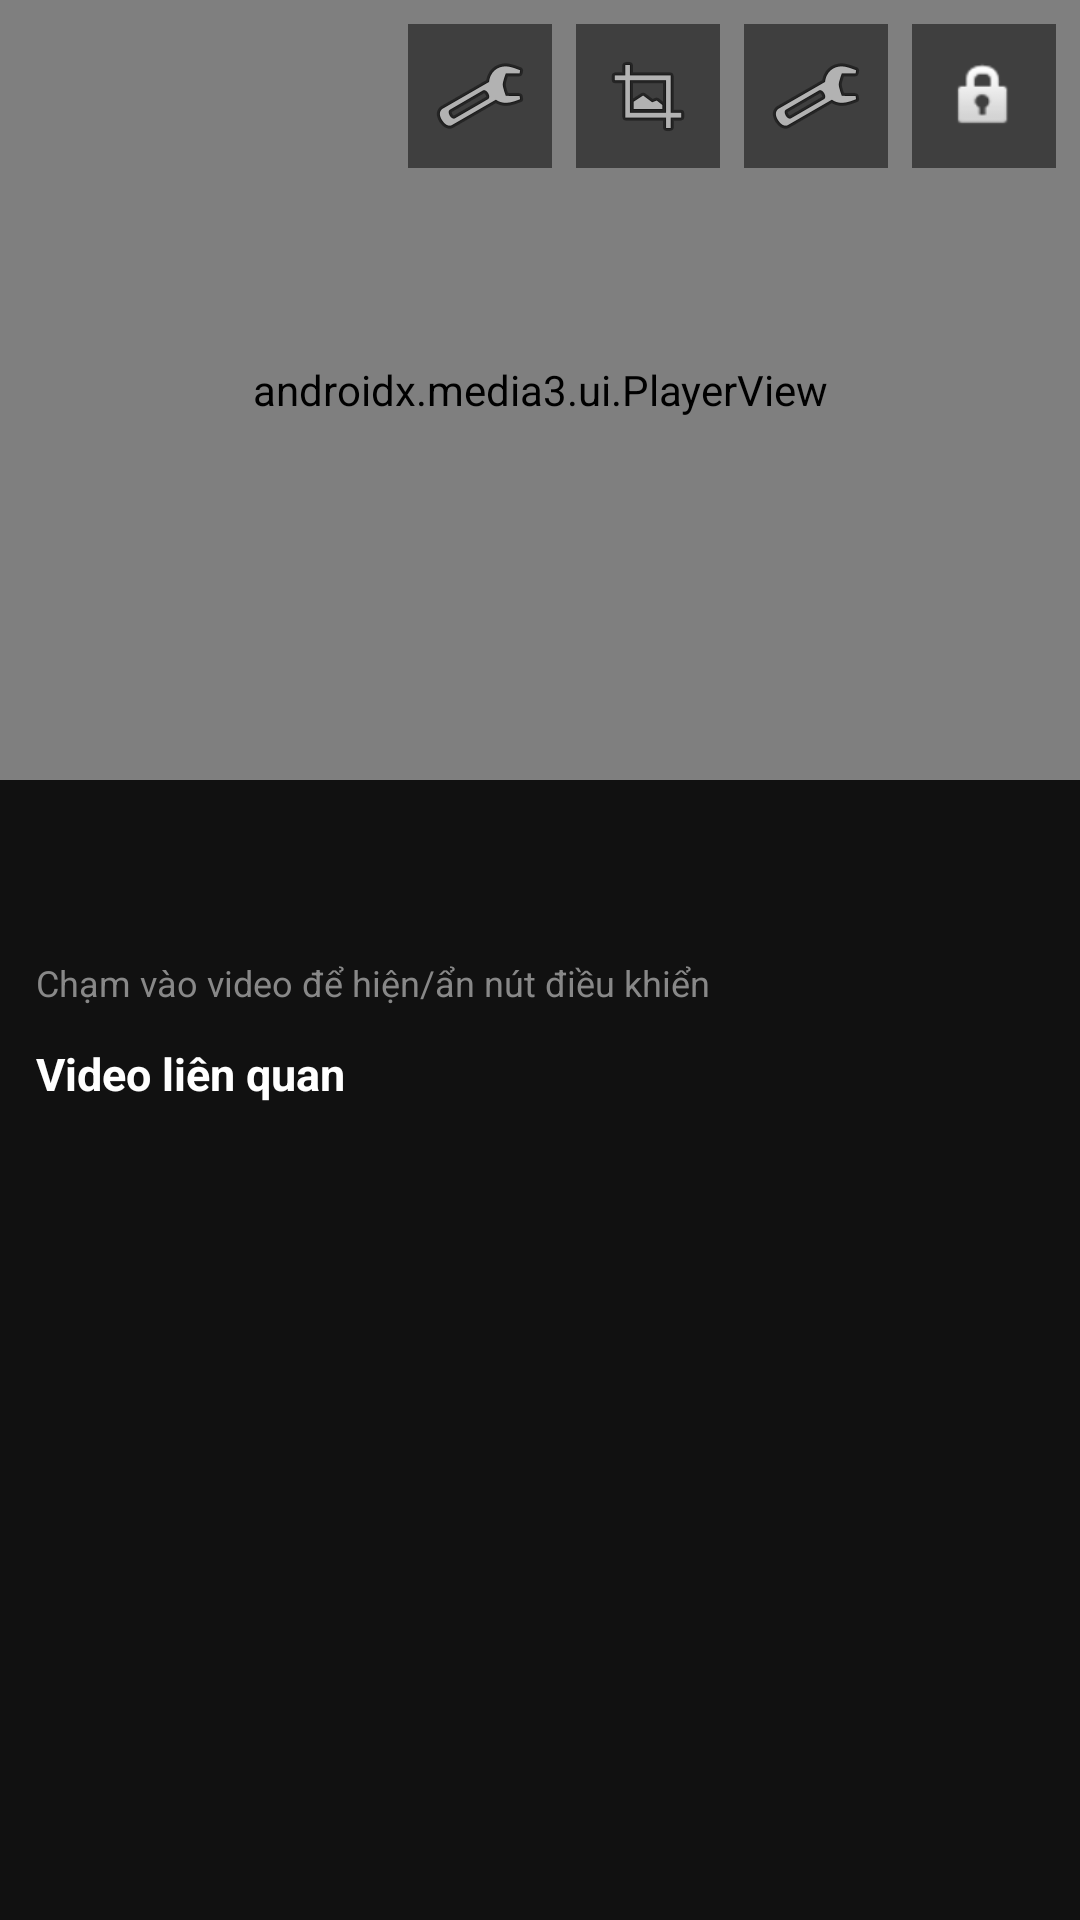

Icon bounding boxes for this 1080w x 1920h phone screenshot, format (x1, y1, x2, y2):
Khóa xoay: (912, 24, 1056, 168)
